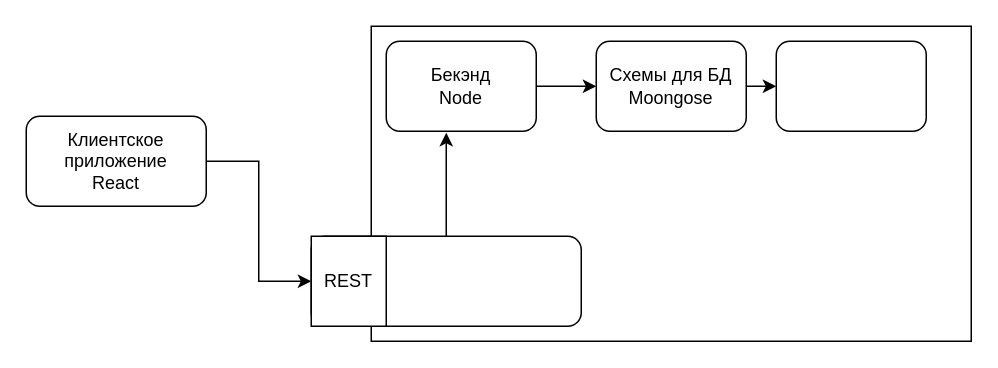
Some shapes in this 998 by 368 pixel diagram are drawn without their labels. The shapes that lost their labels are listed below. From the top down, each one's box as (x1, y1, x2, y2) in pixels, then its label:
(775, 40, 926, 131): База данных MongoDB
(310, 235, 581, 326): Сервер REST Express
